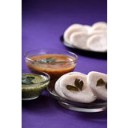idly: (65, 22, 107, 49), (70, 30, 87, 49), (89, 35, 108, 51)
